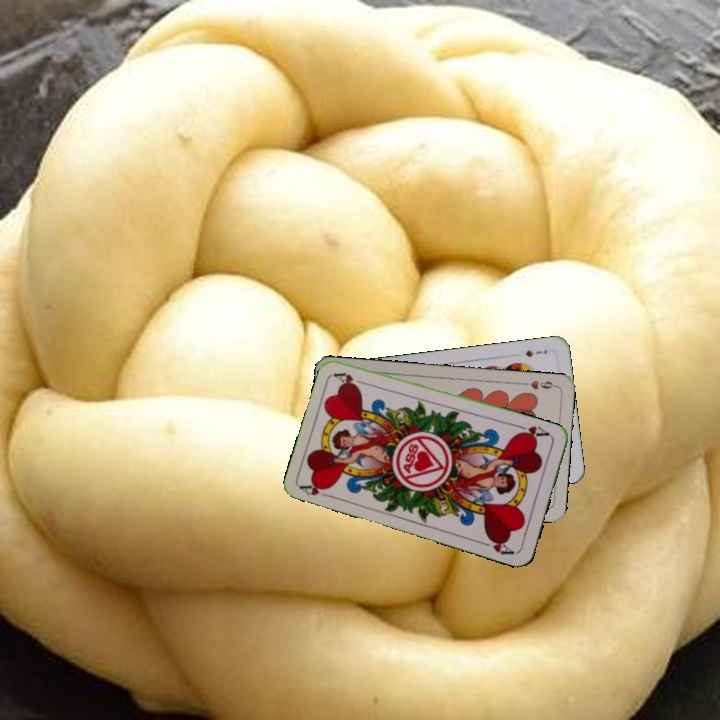H9: (518, 376, 559, 392)
HA: (297, 478, 337, 501), (512, 421, 553, 442)
S7: (521, 345, 550, 359)
